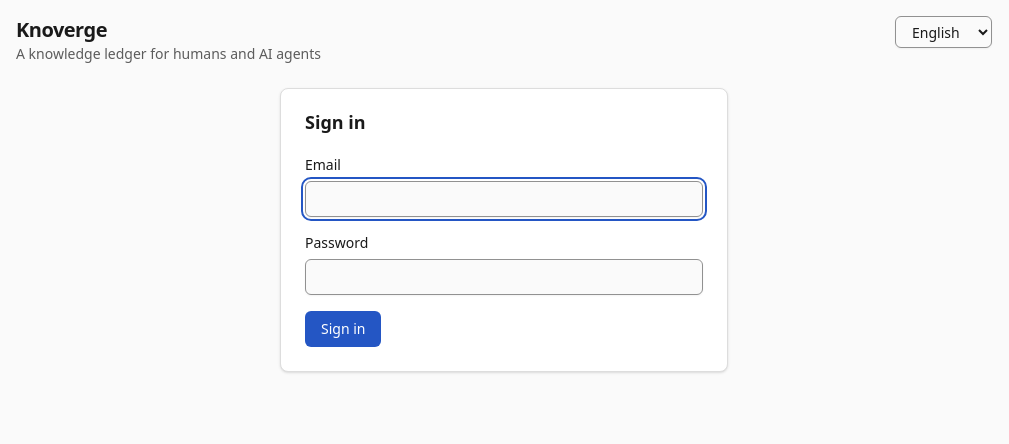
it: sign in › shows the login page for anonymous users and the error for wrong credentials
Expected: the heading "Sign in" is shown, [305,110,366,134]
Type "owner@example.com" into the field labelled "Email". click: (504, 199)
box: [305,181,703,217]
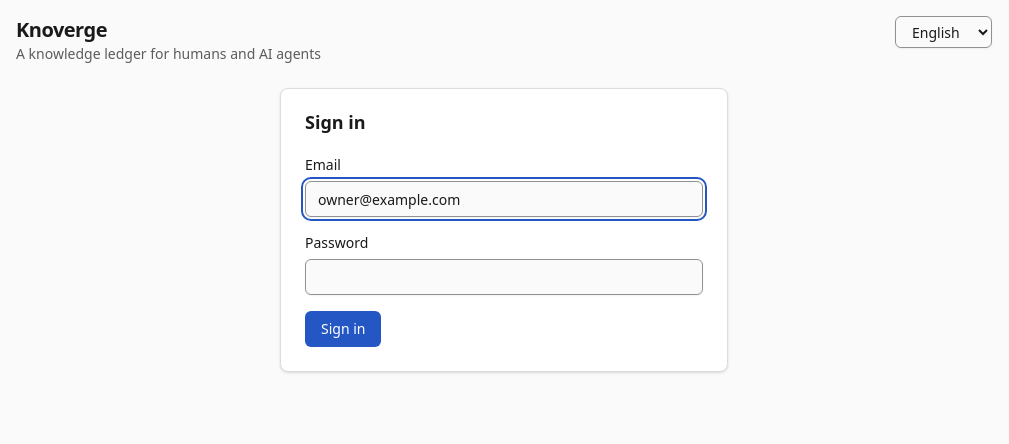
Type "wrong password!!" into the password field labelled "Password". click: (504, 277)
box: [305,259,703,295]
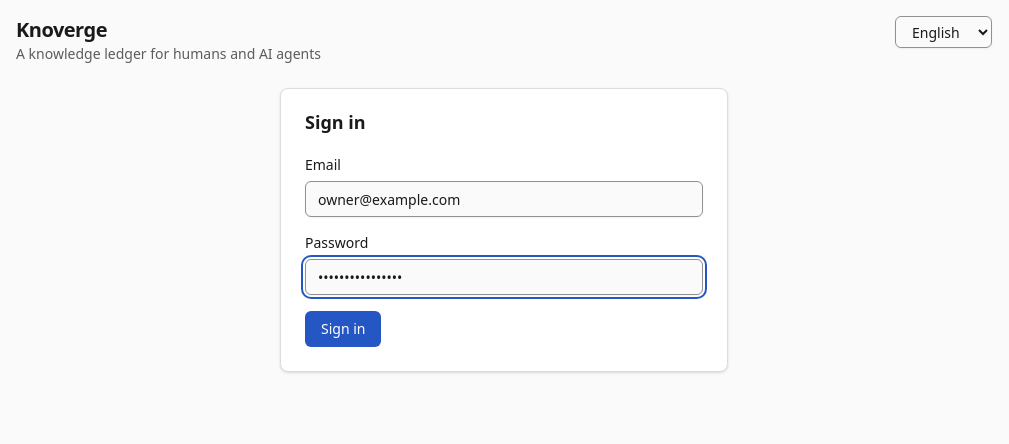
Click the button "Sign in". click: click(343, 329)
box: [305,311,382,347]
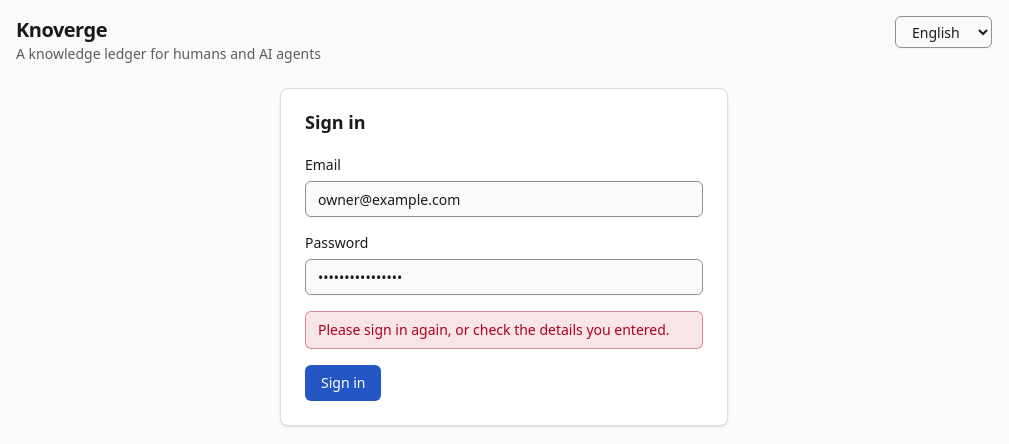
Expected: the message reads "Please sign in again, or check the details you entered.", [318,320,670,339]
